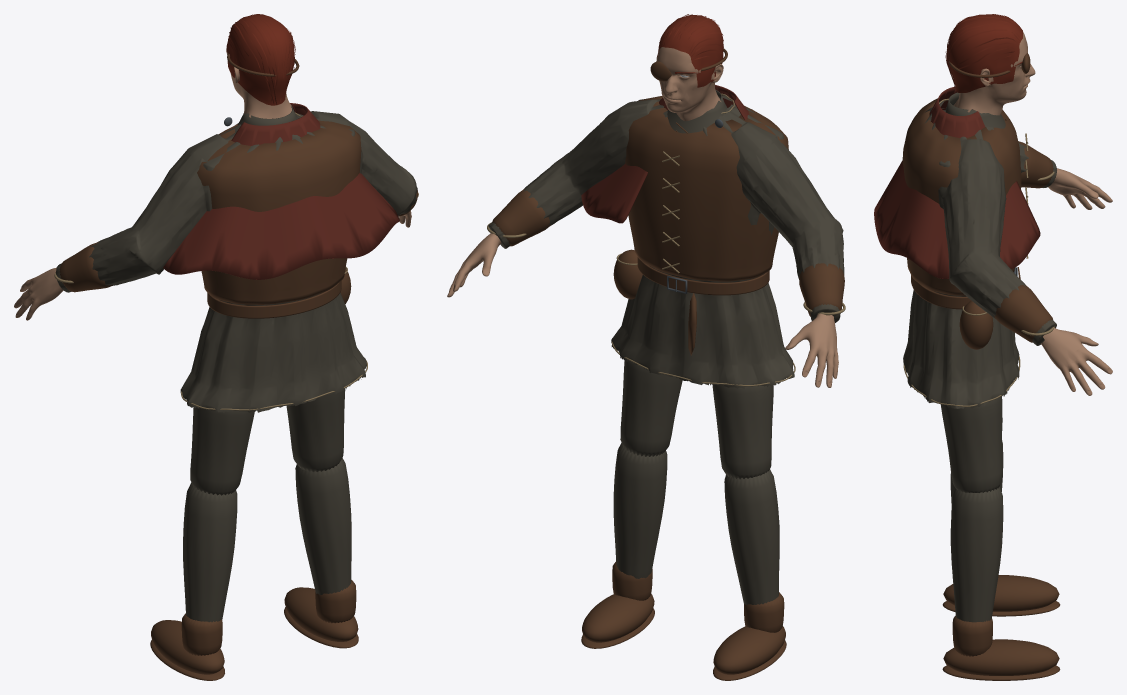
File: bandit.glb
3 renders of one model, left to right at view 1: azimuth 30°, elevation 25°; view 2: azimuth 150°, elevation 25°; view 3: azimuth 270°, elevation 25°, orthographic.
Parts seen in each view (by area): view 1: Padded_undergarment_static, Ragged_oxblood_shoulder_mantle_static, Weathered_leather_jerkin_static, Wool_hose_calf_l_static, Wool_hose_calf_r_static, bandit_anatomy.short04_static, Wool_hose_thigh_l_static, Wool_hose_thigh_r_static, bandit_FaceAndHands_static, Turnshoe_r_static, Turnshoe_l_static, Leather_girdle_static (+3 smaller); view 2: Padded_undergarment_static, Weathered_leather_jerkin_static, bandit_FaceAndHands_static, Wool_hose_calf_l_static, Wool_hose_calf_r_static, Wool_hose_thigh_l_static, Wool_hose_thigh_r_static, Ragged_oxblood_shoulder_mantle_static, bandit_anatomy.short04_static, Turnshoe_l_static, Turnshoe_r_static, Leather_bracer_r_static (+6 smaller); view 3: Padded_undergarment_static, Ragged_oxblood_shoulder_mantle_static, Wool_hose_calf_r_static, Weathered_leather_jerkin_static, bandit_FaceAndHands_static, Wool_hose_thigh_r_static, bandit_anatomy.short04_static, Turnshoe_r_static, Turnshoe_l_static, Leather_bracer_r_static, Ankle_leather_r_static, Drawstring_purse_static (+5 smaller).
Part boxes in pixels (<box>): Padded_undergarment_static: <box>55,111,417,412</box>; Ragged_oxblood_shoulder_mantle_static: <box>163,103,399,279</box>; Weathered_leather_jerkin_static: <box>197,115,361,304</box>; Wool_hose_calf_l_static: <box>183,482,237,622</box>; Wool_hose_calf_r_static: <box>295,458,351,594</box>; bandit_anatomy.short04_static: <box>226,14,295,105</box>; Wool_hose_thigh_l_static: <box>190,407,254,495</box>; Wool_hose_thigh_r_static: <box>286,388,345,471</box>; bandit_FaceAndHands_static: <box>14,48,411,320</box>; Turnshoe_r_static: <box>284,587,358,641</box>; Turnshoe_l_static: <box>151,620,224,674</box>; Leather_girdle_static: <box>207,281,341,318</box>; Padded_undergarment_static: <box>488,95,844,388</box>; Weathered_leather_jerkin_static: <box>625,96,788,281</box>; bandit_FaceAndHands_static: <box>447,47,838,387</box>; Wool_hose_calf_l_static: <box>724,469,779,604</box>; Wool_hose_calf_r_static: <box>613,443,667,578</box>; Wool_hose_thigh_l_static: <box>712,384,773,479</box>; Wool_hose_thigh_r_static: <box>620,359,682,456</box>; Ragged_oxblood_shoulder_mantle_static: <box>581,85,748,223</box>; bandit_anatomy.short04_static: <box>656,14,723,87</box>; Turnshoe_l_static: <box>713,626,785,674</box>; Turnshoe_r_static: <box>582,594,654,642</box>; Leather_bracer_r_static: <box>492,189,550,246</box>; Padded_undergarment_static: <box>903,100,1056,408</box>; Ragged_oxblood_shoulder_mantle_static: <box>874,87,1040,278</box>; Wool_hose_calf_r_static: <box>950,487,1003,622</box>; Weathered_leather_jerkin_static: <box>902,98,1021,295</box>; bandit_FaceAndHands_static: <box>953,32,1112,395</box>; Wool_hose_thigh_r_static: <box>940,397,1002,492</box>; bandit_anatomy.short04_static: <box>945,14,1022,92</box>; Turnshoe_r_static: <box>943,639,1059,675</box>; Turnshoe_l_static: <box>943,575,1059,611</box>; Leather_bracer_r_static: <box>994,285,1052,342</box>; Ankle_leather_r_static: <box>952,616,992,656</box>; Drawstring_purse_static: <box>959,301,993,349</box>.
Size of the model in its own units: 1.13 by 1.76 by 0.6083.
